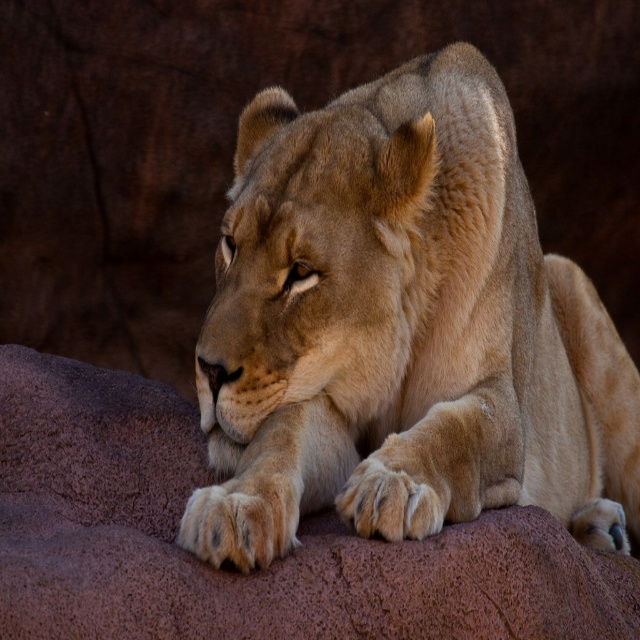Lion: (176, 41, 640, 575)
